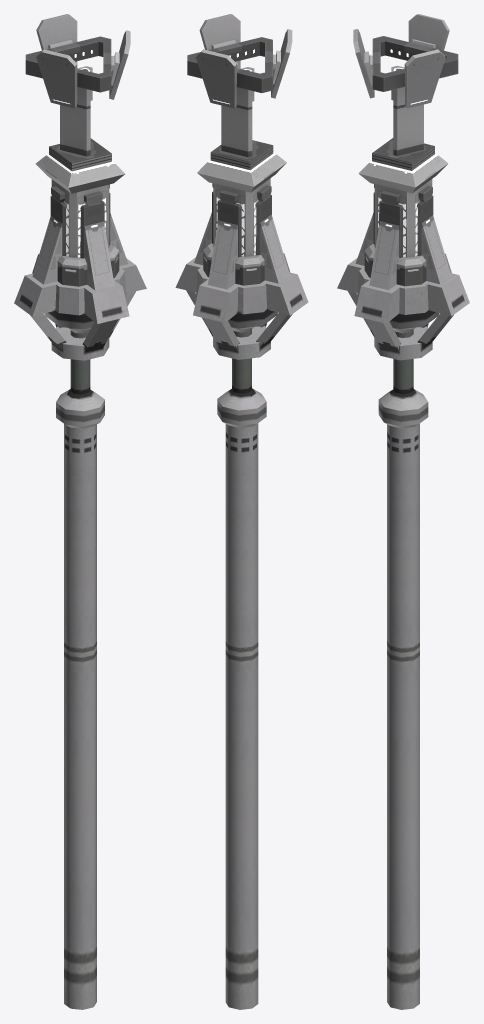
3 renders of one model, left to right at view 1: azimuth 30°, elevation 25°; view 2: azimuth 150°, elevation 25°; view 3: azimuth 330°, elevation 25°, orthographic.
Visible parts, largest first — view 1: lighthouse; view 2: lighthouse; view 3: lighthouse.
Part boxes in pixels (box(x1,y1,x2,y2)): lighthouse: box(14, 14, 146, 1009); lighthouse: box(175, 14, 308, 1009); lighthouse: box(337, 14, 469, 1009).
Bounding box in the file's own units: 1.6 × 12.88 × 1.6.
1 material, 1 textured.
